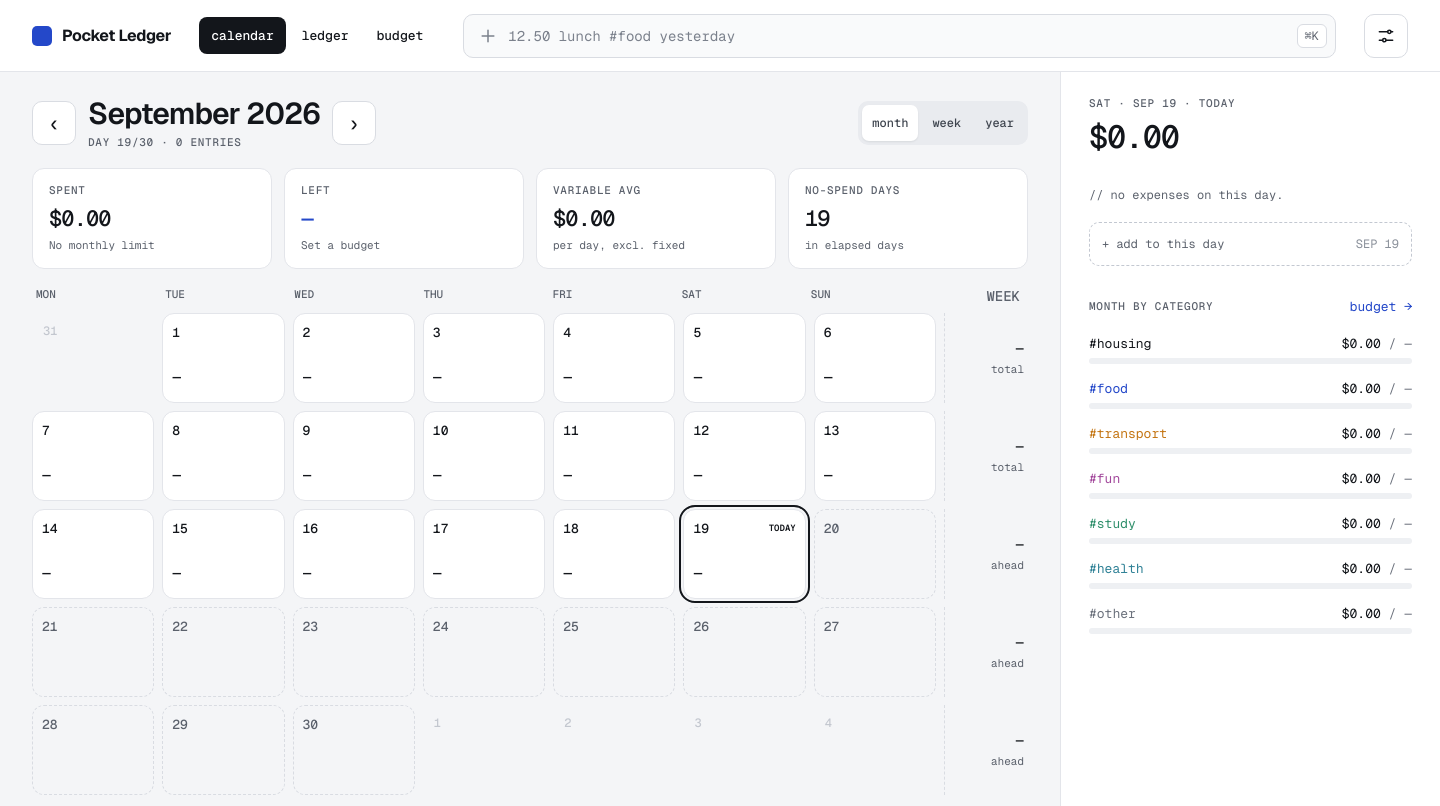
it: protects an import from the entry shortcut and cancels without changing data
This screenshot has width=1440, height=806.
Click the button "ledger" at (325, 36), box [290,17,360,54]
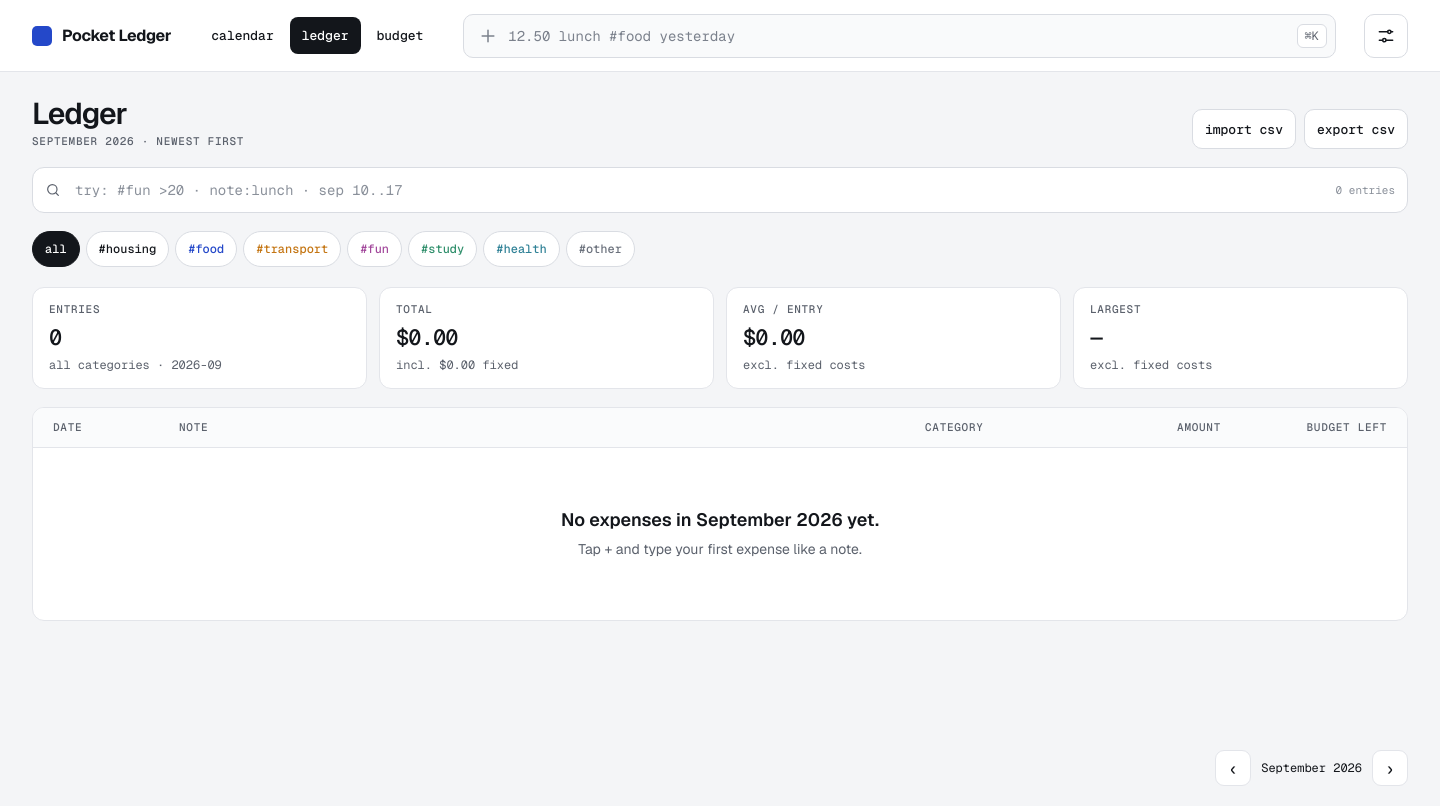
Click the button "import csv" at (1244, 129), box [1192,109,1296,149]
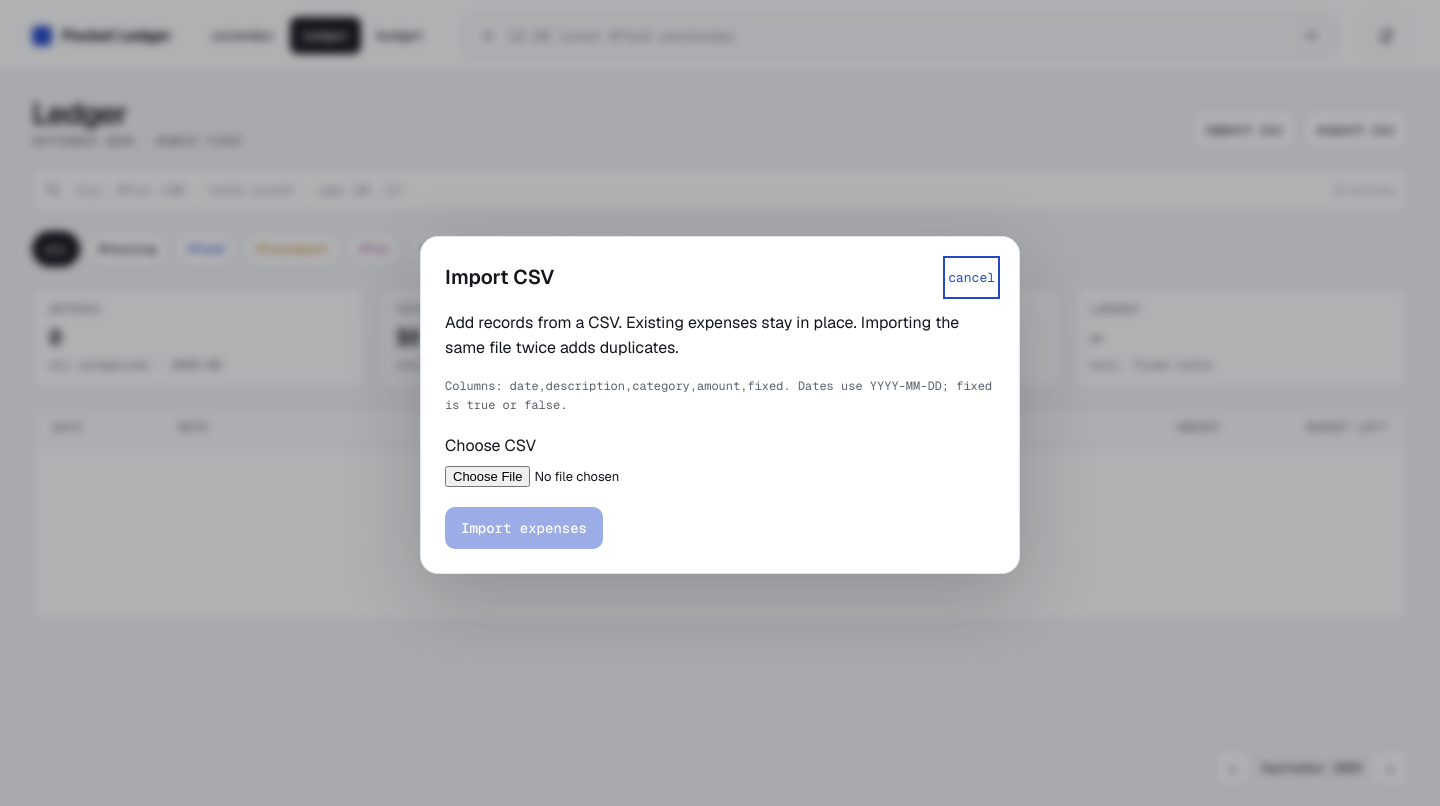
Press k
Click the button "cancel" at (972, 277), box [948,261,995,294]
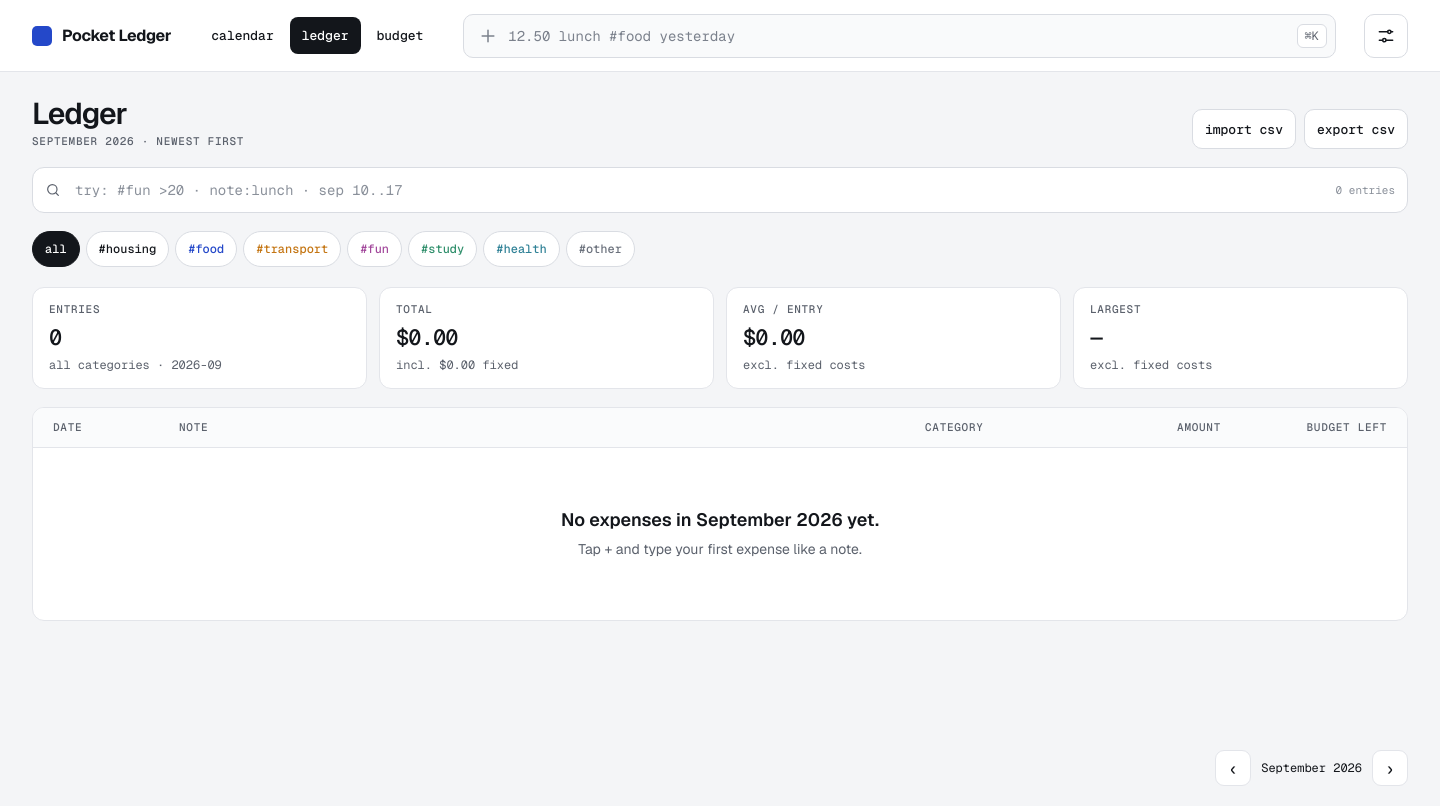
Result: the dialog is gone
